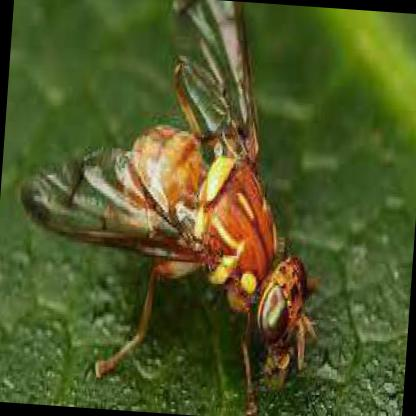fruit fly: (20, 1, 307, 414)
